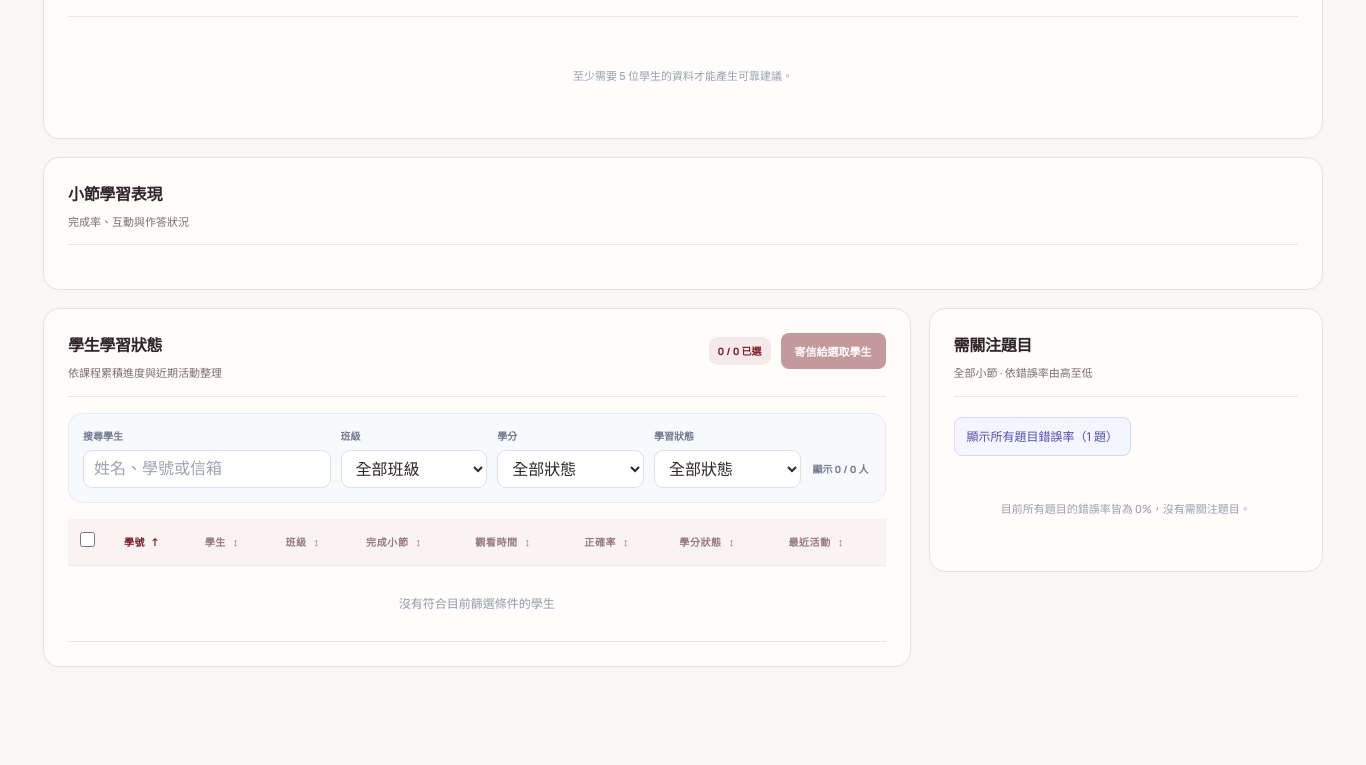
Test case: shows unanswered questions without treating them as errors
(page scrolled)
Check: the text "尚未作答題目" is not shown
Click the button "顯示所有題目錯誤率（1 題）": [1042, 436] box top-left (954, 417), bottom-right (1131, 456)
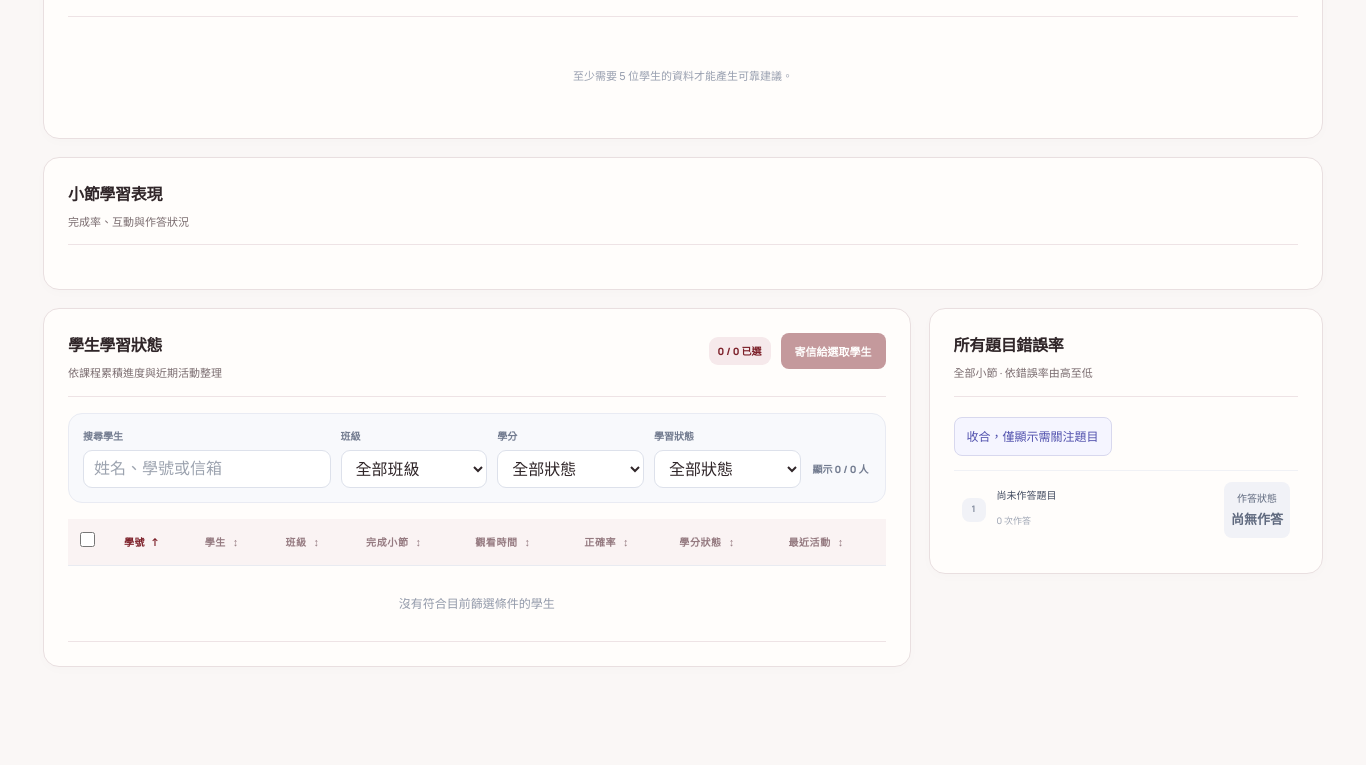
Check: the text "尚未作答題目" is shown, box top-left (997, 488), bottom-right (1057, 502)
Check: the text "尚無作答" is shown, box top-left (1231, 510), bottom-right (1283, 528)
